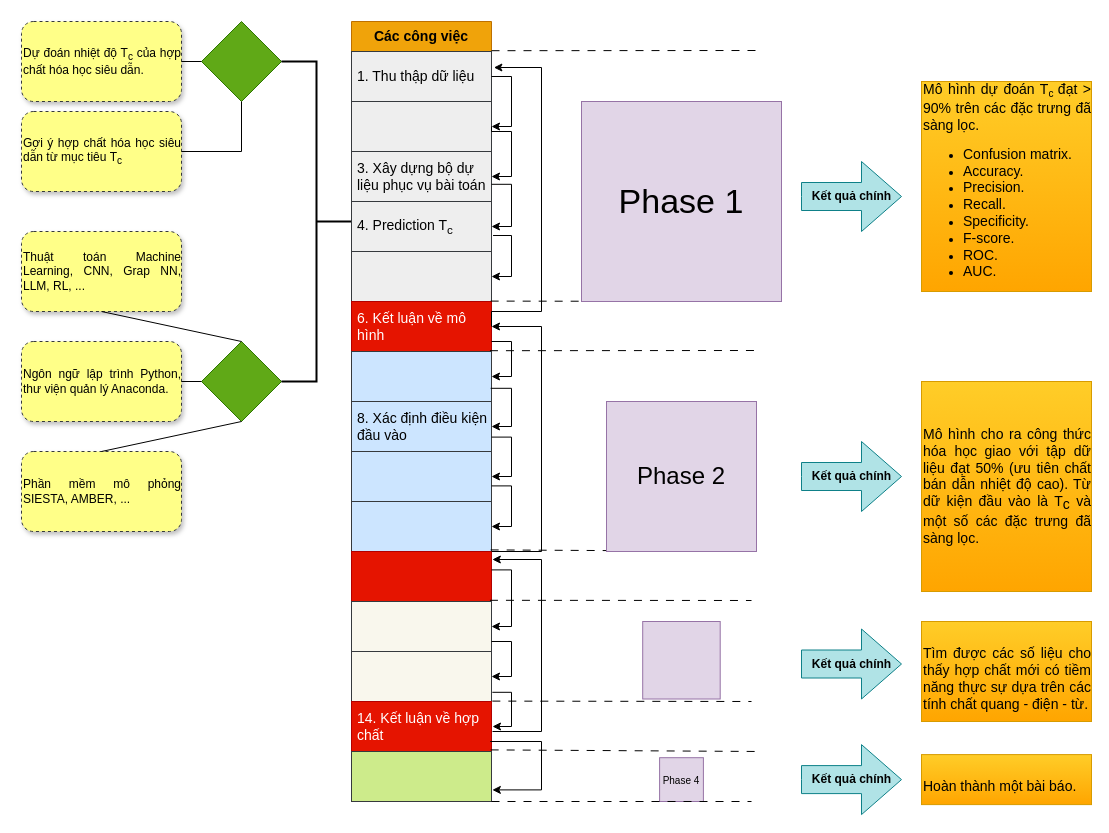
Image size: 1109x833. Some labels were removed from this diagram. Here are the shapes that lost their labels. From the top down, the centre of each, then its label:
At point 241,61: "Mục tiêu".
At point 421,126: "2. Phân tích dữ liệu".
At point 421,276: "5. Validation, Explaination".
At point 241,381: "Công cụ".
At point 421,376: "7. Khoang vùng đặc trưng tiềm năng".
At point 421,476: "9. Inverse Design".
At point 421,526: "10. Kiểm tra overlap với tập Validation".
At point 421,576: "11. Kết luận về mô hình".
At point 421,626: "12. Chạy mô phỏng".
At point 421,676: "13. Khảo sát đặc tính".
At point 681,659: "Phase 3".
At point 421,776: "15. Viết báo".
